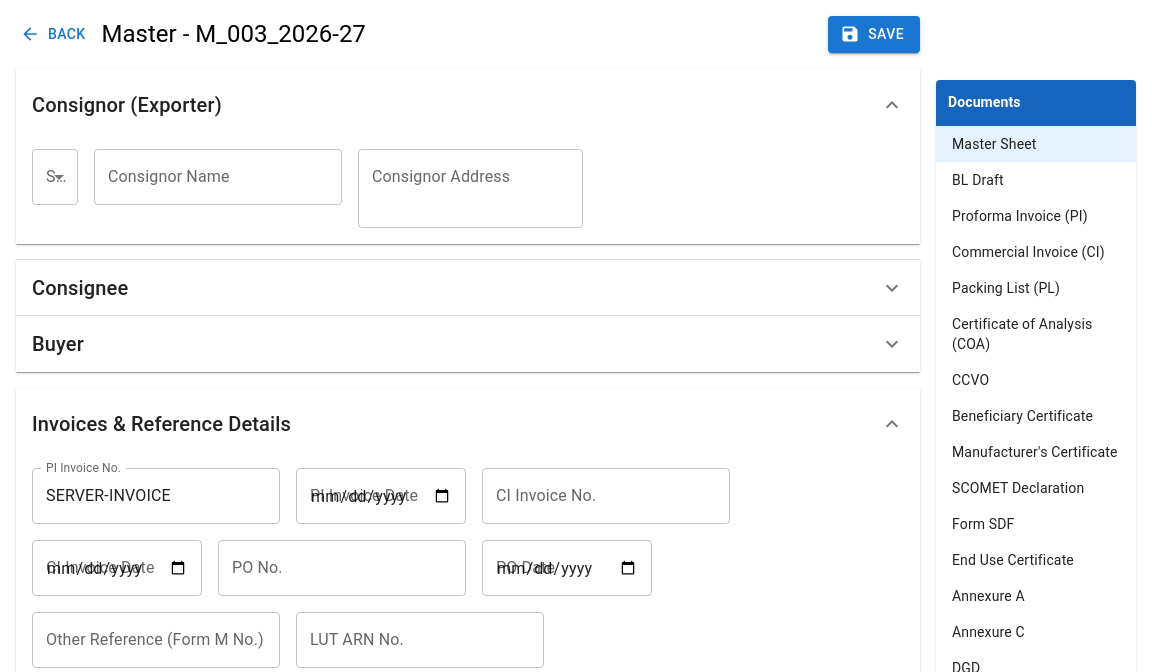
Test: sends root update with loaded Master version and restores stale root draft
The width and height of the screenshot is (1152, 672).
Replace the text in the field showing "SERVER-INVOICE" with "LOCAL-INVOICE". click: (156, 496)
box: top-left (32, 468), bottom-right (280, 524)
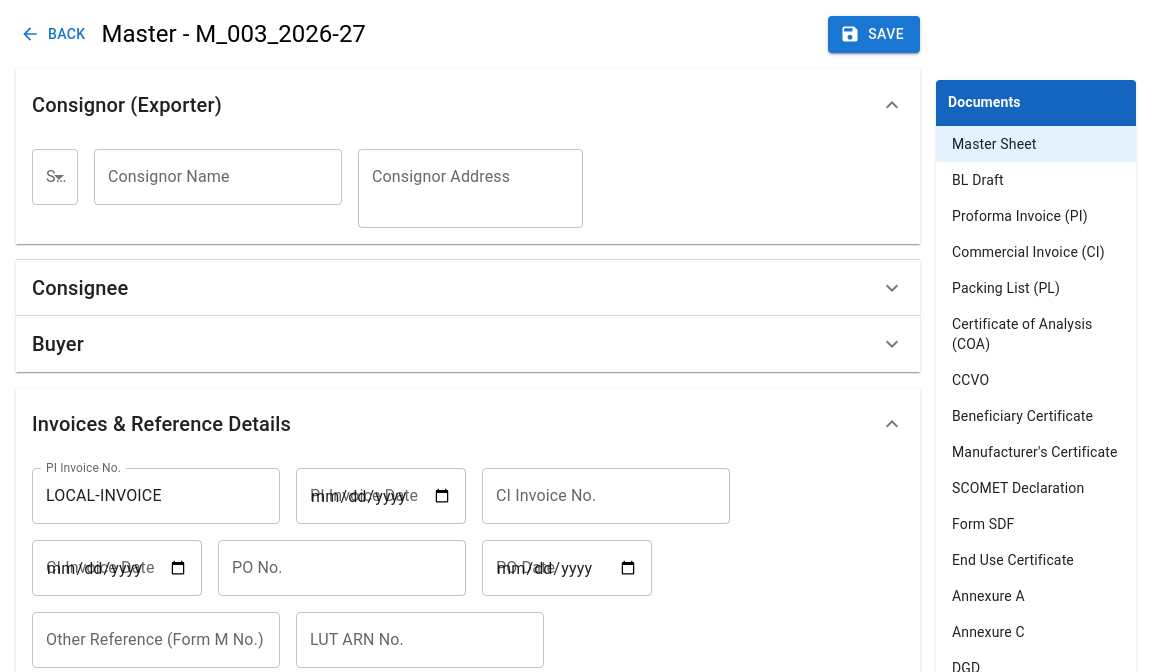
Click the button "Save". click: (874, 34)
box: top-left (828, 16), bottom-right (920, 52)
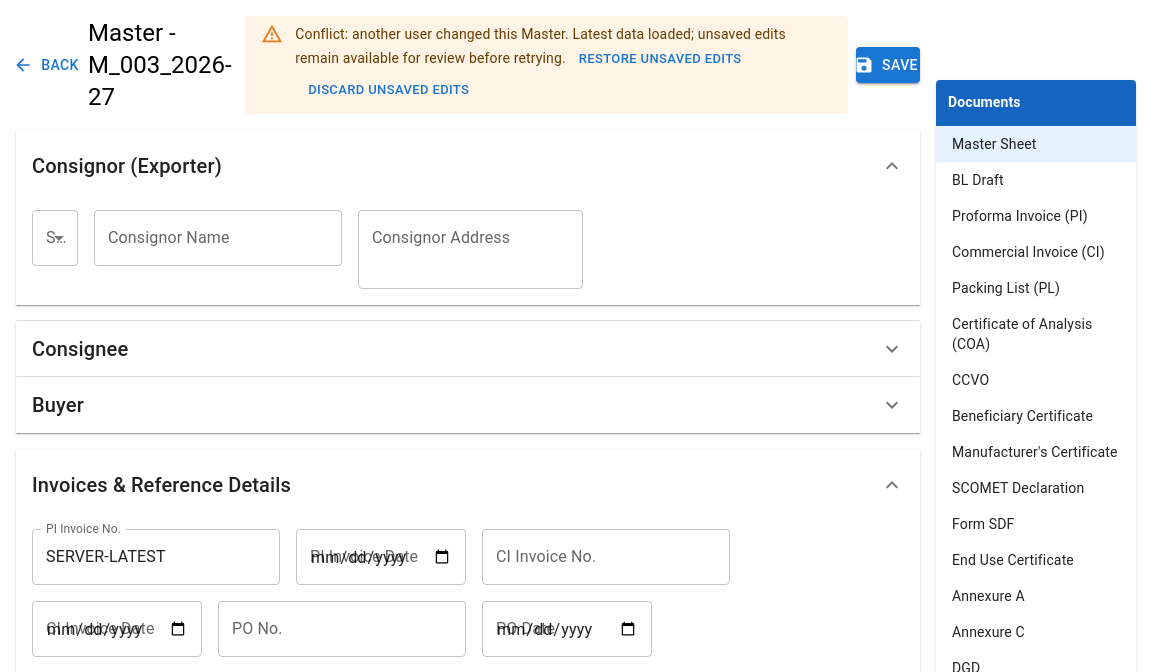
Expected: the field showing "SERVER-LATEST" is shown, top-left (32, 528), bottom-right (280, 584)
Expected: the button "Restore unsaved edits" is shown
Click the button "Restore unsaved edits". click: (660, 59)
box: top-left (574, 44), bottom-right (746, 75)
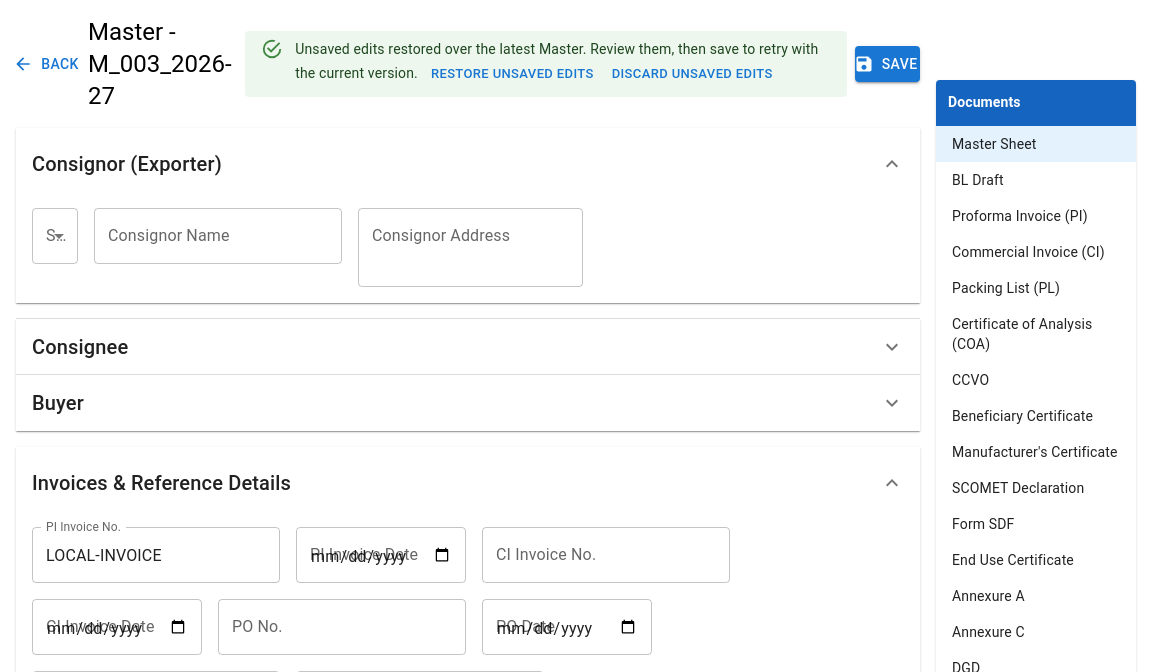
Click the button "Save". click: (888, 64)
box: top-left (855, 46), bottom-right (920, 82)
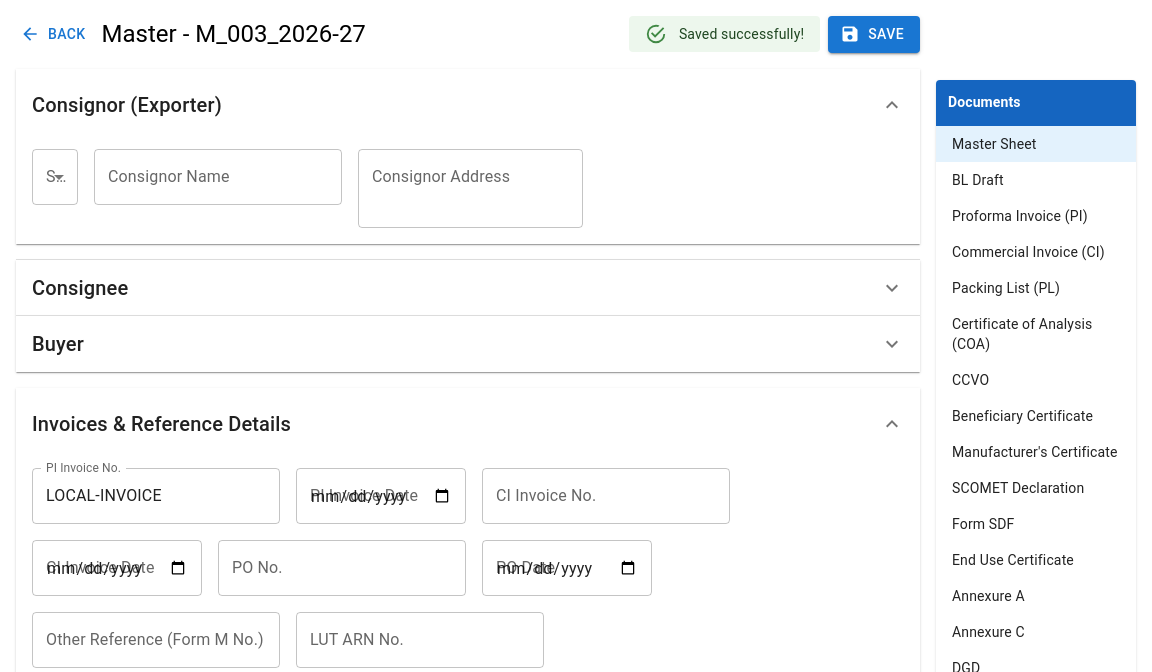
Expected: the button "Restore unsaved edits" is gone
